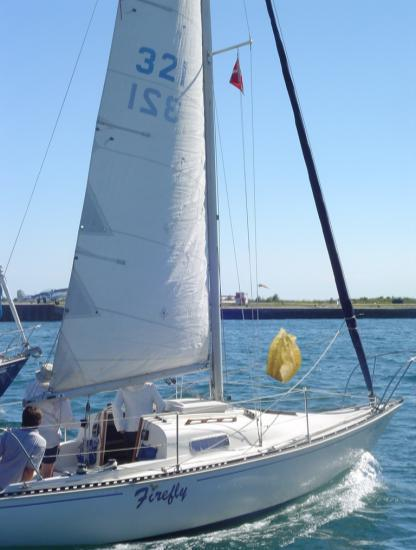Physalis: (255, 327, 314, 386)
